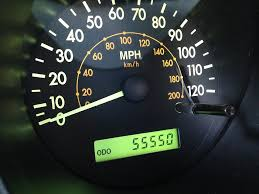Digital_Meter: (90, 125, 183, 167)
